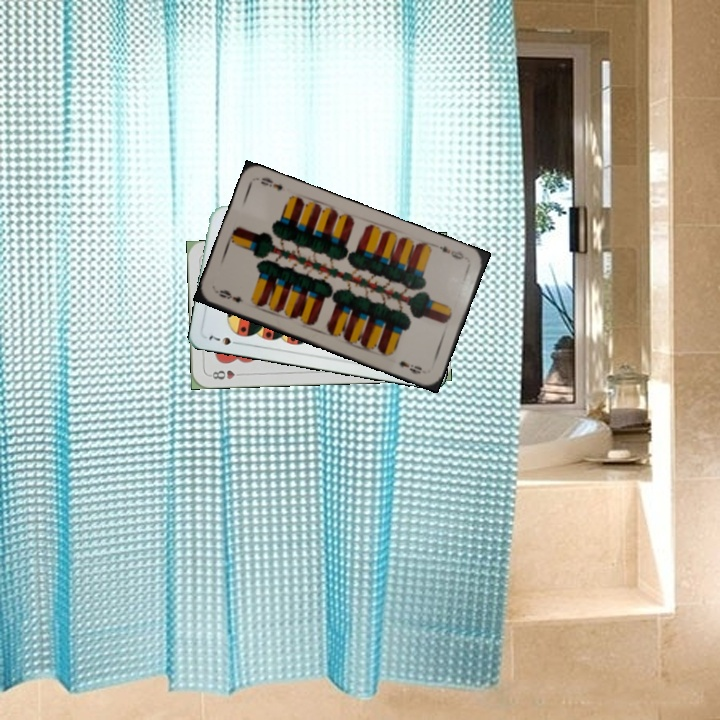E9: (432, 241, 466, 262), (212, 285, 245, 306)
H8: (206, 366, 246, 382)
S7: (205, 331, 244, 348)
